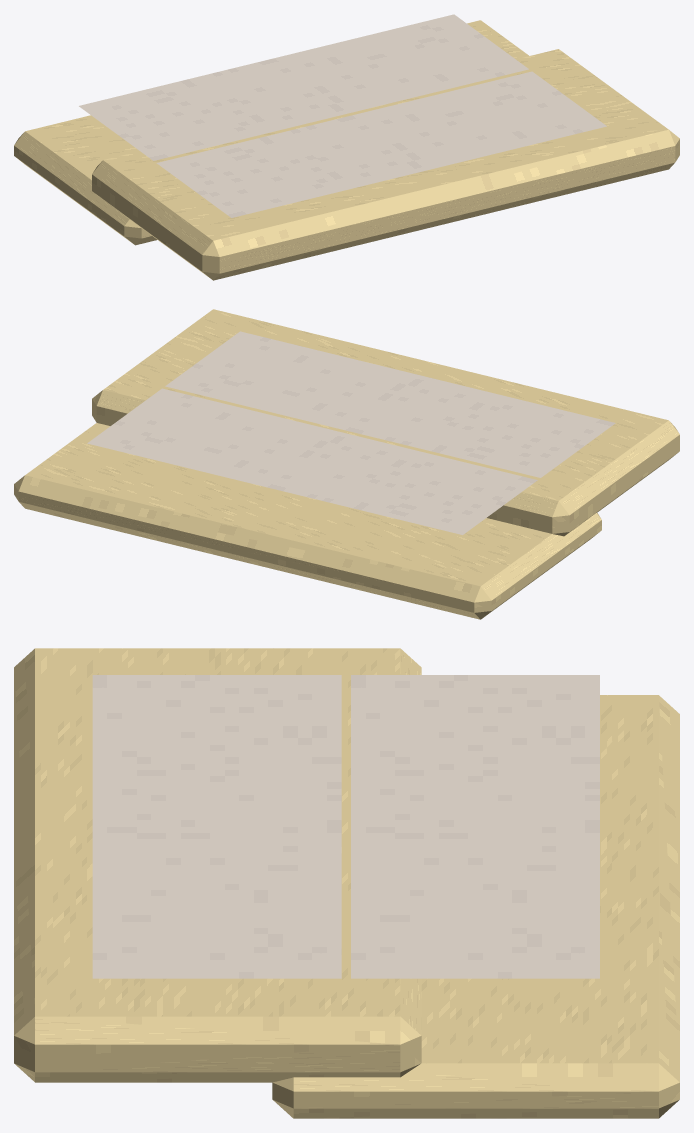
File: toasterpastryfrozen.glb
3 views of the same model, one above another, from view 1: azimuth 30°, elevation 25°; view 2: azimuth 150°, elevation 25°; view 3: azimuth 270°, elevation 25° (orthographic). The views are drawn at different scales.
Visible parts, largest first — view 1: block_pale solid frosting (×2), block_flat pastry or pasta sheet (×2); view 2: block_flat pastry or pasta sheet (×2), block_pale solid frosting (×2); view 3: block_pale solid frosting (×2), block_flat pastry or pasta sheet (×2).
Boxes of the visible parts, x1,y1,x2,y2 form: block_pale solid frosting (×2): [79, 14, 606, 217]; block_flat pastry or pasta sheet (×2): [14, 20, 679, 280]; block_flat pastry or pasta sheet (×2): [14, 309, 679, 619]; block_pale solid frosting (×2): [87, 331, 615, 534]; block_pale solid frosting (×2): [92, 675, 599, 978]; block_flat pastry or pasta sheet (×2): [14, 648, 679, 1118].
Bounding box in the file's own units: 0.0955 × 0.012 × 0.0696.
Materials: 1 (1 with a texture image).
